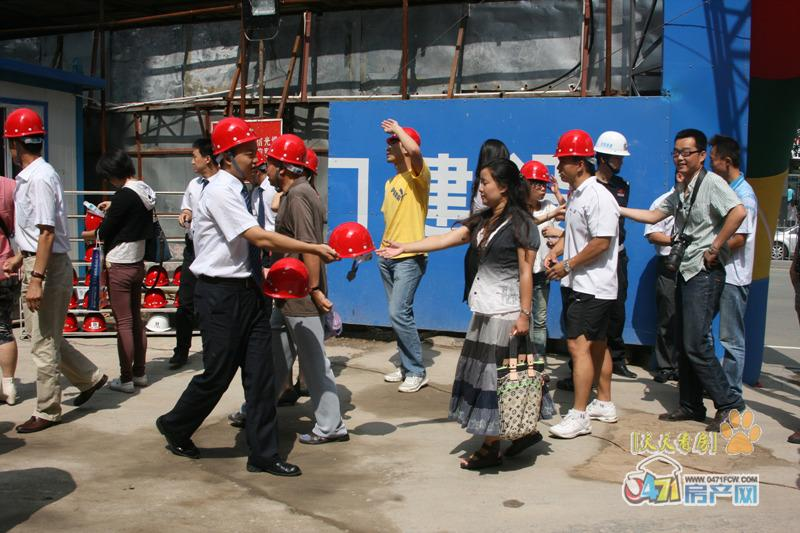helmet: (212, 117, 263, 156), (329, 222, 379, 259), (264, 260, 312, 298), (3, 108, 49, 141), (553, 131, 597, 161), (267, 133, 308, 163), (596, 133, 629, 159), (83, 205, 109, 238), (521, 160, 555, 183), (389, 126, 424, 145), (143, 289, 169, 311), (84, 313, 112, 333), (147, 266, 173, 286), (149, 314, 168, 332), (70, 290, 84, 312), (62, 315, 76, 333)
